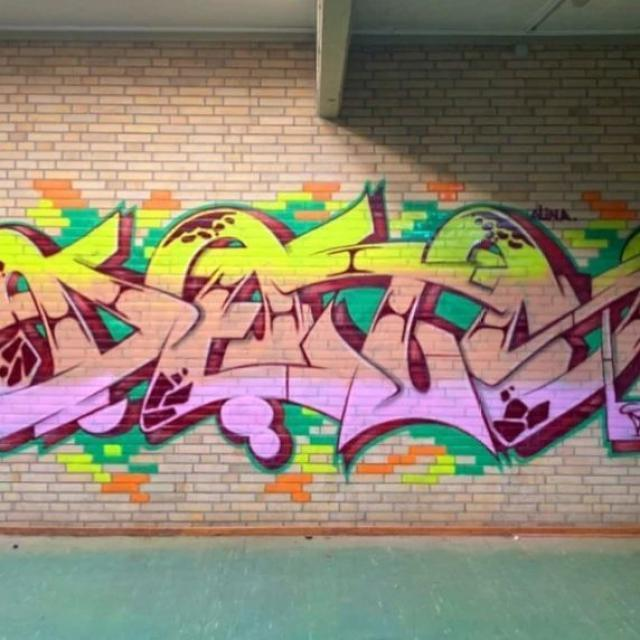nonspitting: (0, 178, 640, 502)
